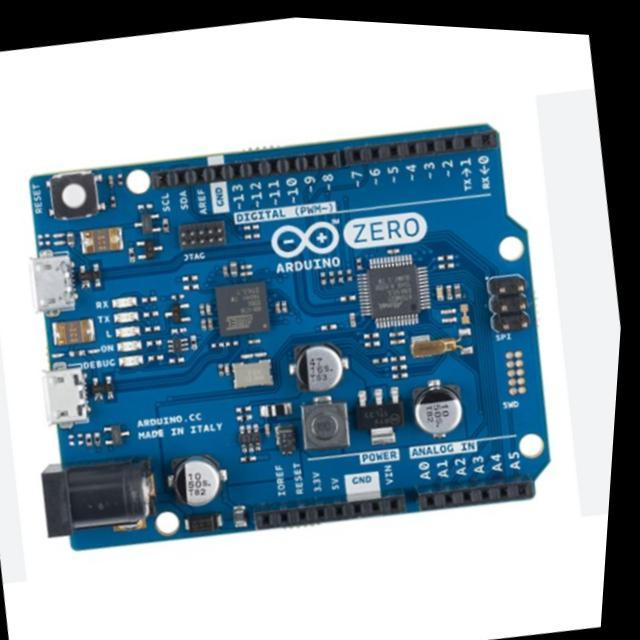Arduino-Zero: (30, 125, 551, 551)
